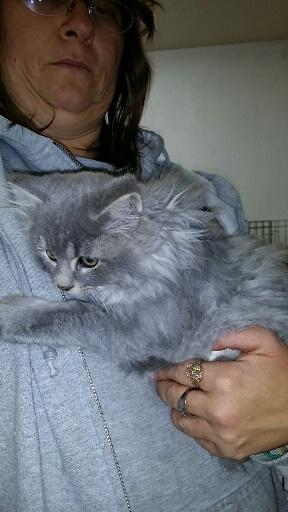persian: (12, 173, 153, 304)
